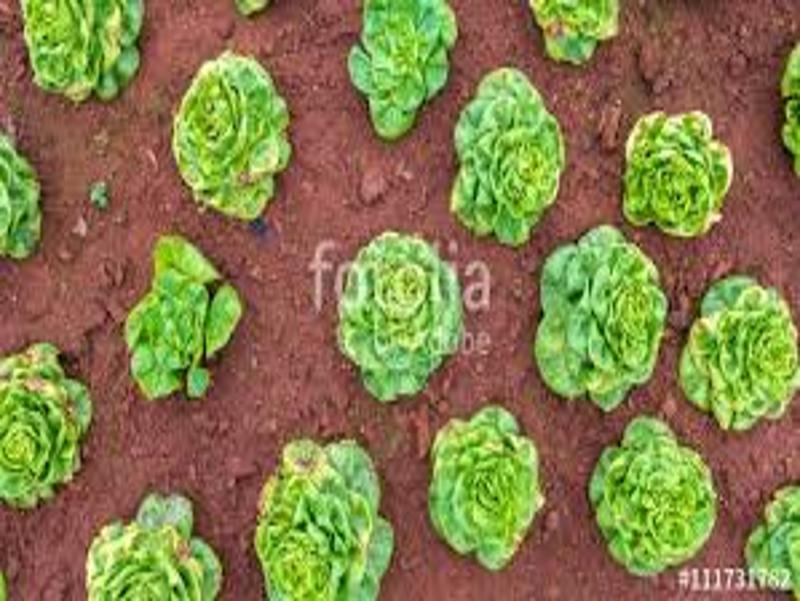cabbage: (254, 433, 393, 599), (334, 238, 462, 397), (593, 413, 715, 579), (533, 242, 665, 393), (456, 67, 565, 245), (177, 52, 290, 219), (124, 241, 240, 395), (435, 404, 544, 566), (687, 274, 800, 429), (1, 347, 91, 505), (86, 494, 224, 597), (354, 1, 452, 133), (21, 1, 149, 99), (628, 108, 729, 231)
